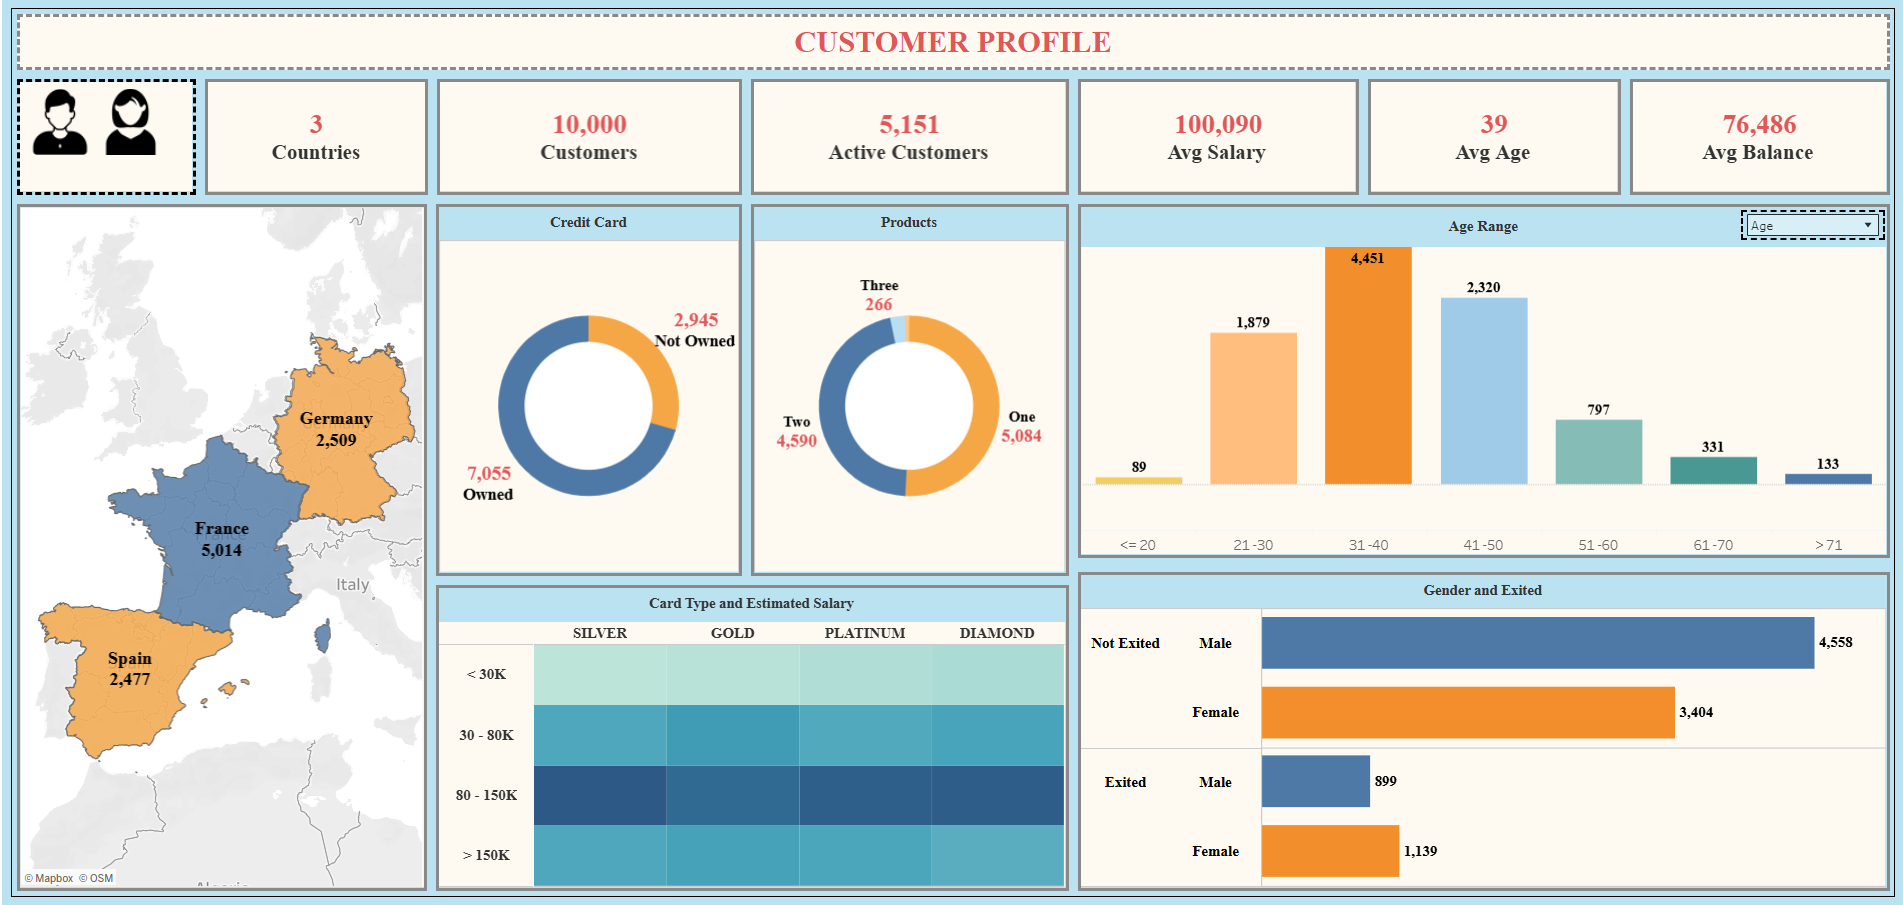

Layout of this report page (visuals, bound fields, positions):
{"tool":"tableau","page":{"name":"Overview","canvas":[1000,1000],"units":"permille","ordinal":1},"visuals":[{"type":"text","box":[4.5,11.5,991,72.5]},{"type":"worksheet","title":"Gender Icon (2)","mark":"Shape","box":[4.5,84,99,137.3]},{"type":"worksheet","title":"Country","mark":"Automatic","box":[103.5,84,122.4,137.3]},{"type":"worksheet","title":"Total Customers","mark":"Automatic","box":[225.8,84,165.4,137.3]},{"type":"worksheet","title":"Active Cus","mark":"Automatic","box":[391.2,84,171.7,137.3]},{"type":"worksheet","title":"Avg Salary ","mark":"Automatic","box":[562.9,84,152.7,137.3]},{"type":"worksheet","title":"Avg Age ","mark":"Automatic","box":[715.6,84,138.2,137.3]},{"type":"worksheet","title":"Avg Balance ","mark":"Automatic","box":[853.8,84,141.7,137.3]},{"type":"worksheet","title":"Geography","mark":"Automatic","box":[4.5,221.4,221.1,767.1]},{"type":"worksheet","title":"Has Credit Card","mark":"Pie","rows":["Calculation_710161369743765542","Calculation_710161369743765542"],"box":[225.6,221.4,165.7,419.2]},{"type":"worksheet","title":"Products","mark":"Pie","rows":["Calculation_710161369743765542","Calculation_710161369743765542"],"box":[391.2,221.4,171.6,419.2]},{"type":"worksheet","title":"Age","mark":"Automatic","rows":["Calculation_1557682524360335363"],"cols":["Calculation_648236876739395585"],"box":[562.8,221.4,432.7,400.6]},{"type":"parameter","param":"[Parameters].[Parameter 1]","box":[914.2,232.7,75.7,32.9]},{"type":"worksheet","title":"Credit Score","mark":"Automatic","rows":["Calculation_1557682524360335363"],"cols":["Calculation_1594555743871234048"],"box":[562.8,622,432.7,1.3]},{"type":"worksheet","title":"Tenure","mark":"Automatic","rows":["Calculation_1557682524360335363"],"cols":["Calculation_928304477803687987"],"box":[562.8,623.3,432.7,1.3]},{"type":"worksheet","title":"Balance","mark":"Automatic","rows":["Calculation_1557682524360335363"],"cols":["Calculation_1520527827279953929"],"box":[562.8,624.5,432.7,1.3]},{"type":"worksheet","title":"Point Earned","mark":"Automatic","rows":["Calculation_1557682524360335363"],"cols":["Calculation_1520527827345223702"],"box":[562.8,625.8,432.7,1.3]},{"type":"worksheet","title":"Gender + Exited","mark":"Automatic","rows":["Exited","Gender"],"cols":["Calculation_1557682524360335363"],"box":[562.8,627.1,432.7,361.4]},{"type":"worksheet","title":"Card Type + Salary","mark":"Square","rows":["Calculation_1557682524396109840"],"cols":["Card Type"],"box":[225.6,640.6,337.3,347.9]}]}

Visuals, with their boxes on the dashboard's canvas, which has no fixed pixel size, in thousandths of its width and height (x1, y1, x2, y2). These are canvas units, not pixel positions in the 1903x905 screenshot, which may show the page scaled, cropped or inside an application window:
text: 4:12:996:84
"Gender Icon (2)" worksheet (Shape marks): 4:84:104:221
"Country" worksheet: 104:84:226:221
"Total Customers" worksheet: 226:84:391:221
"Active Cus" worksheet: 391:84:563:221
"Avg Salary " worksheet: 563:84:716:221
"Avg Age " worksheet: 716:84:854:221
"Avg Balance " worksheet: 854:84:996:221
"Geography" worksheet: 4:221:226:988
"Has Credit Card" worksheet (Pie marks): 226:221:391:641
"Products" worksheet (Pie marks): 391:221:563:641
"Age" worksheet: 563:221:996:622
parameter: 914:233:990:266
"Credit Score" worksheet: 563:622:996:623
"Tenure" worksheet: 563:623:996:625
"Balance" worksheet: 563:624:996:626
"Point Earned" worksheet: 563:626:996:627
"Gender + Exited" worksheet: 563:627:996:988
"Card Type + Salary" worksheet (Square marks): 226:641:563:988
